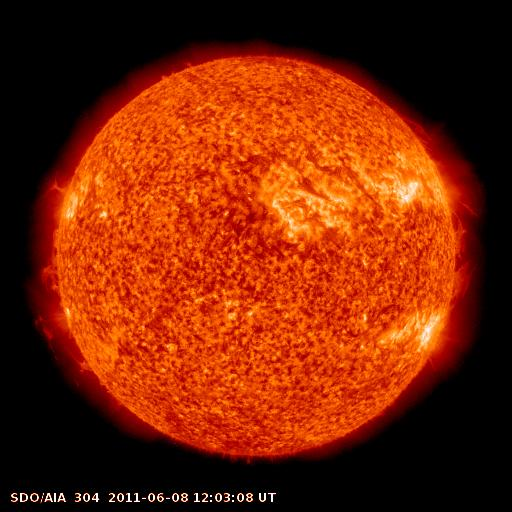prominence: (416, 117, 489, 312), (19, 260, 101, 381), (35, 166, 80, 201)
